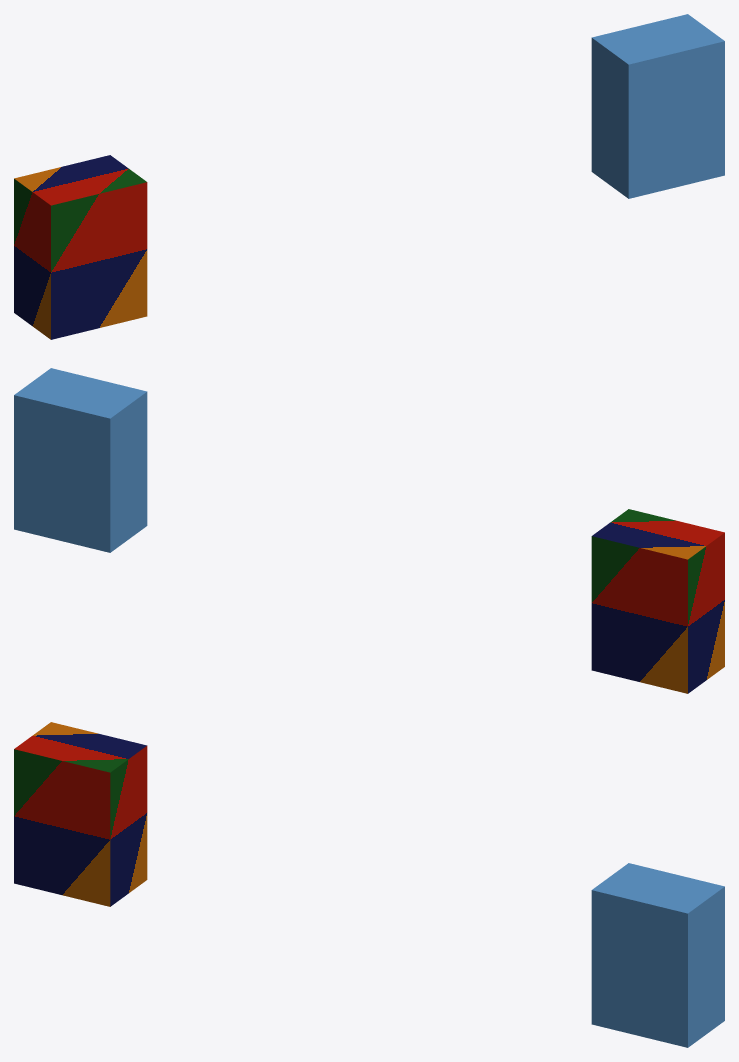
The model's file is morphed.glb.
3 renders of one model, top to bottom at view 1: azimuth 30°, elevation 25°; view 2: azimuth 150°, elevation 25°; view 3: azimuth 330°, elevation 25°, orthographic.
Visible parts, largest first — view 1: shell part, accessory part; view 2: shell part, accessory part; view 3: shell part, accessory part.
Boxes of the visible parts, bbox=[...] form: shell part: bbox=[14, 155, 147, 339]; accessory part: bbox=[591, 14, 724, 198]; shell part: bbox=[591, 509, 724, 693]; accessory part: bbox=[14, 368, 147, 552]; shell part: bbox=[14, 722, 147, 906]; accessory part: bbox=[591, 863, 724, 1047].
Bounding box in the file's own units: 10.5 × 2 × 1.
Materials: 2 (1 with a texture image).
